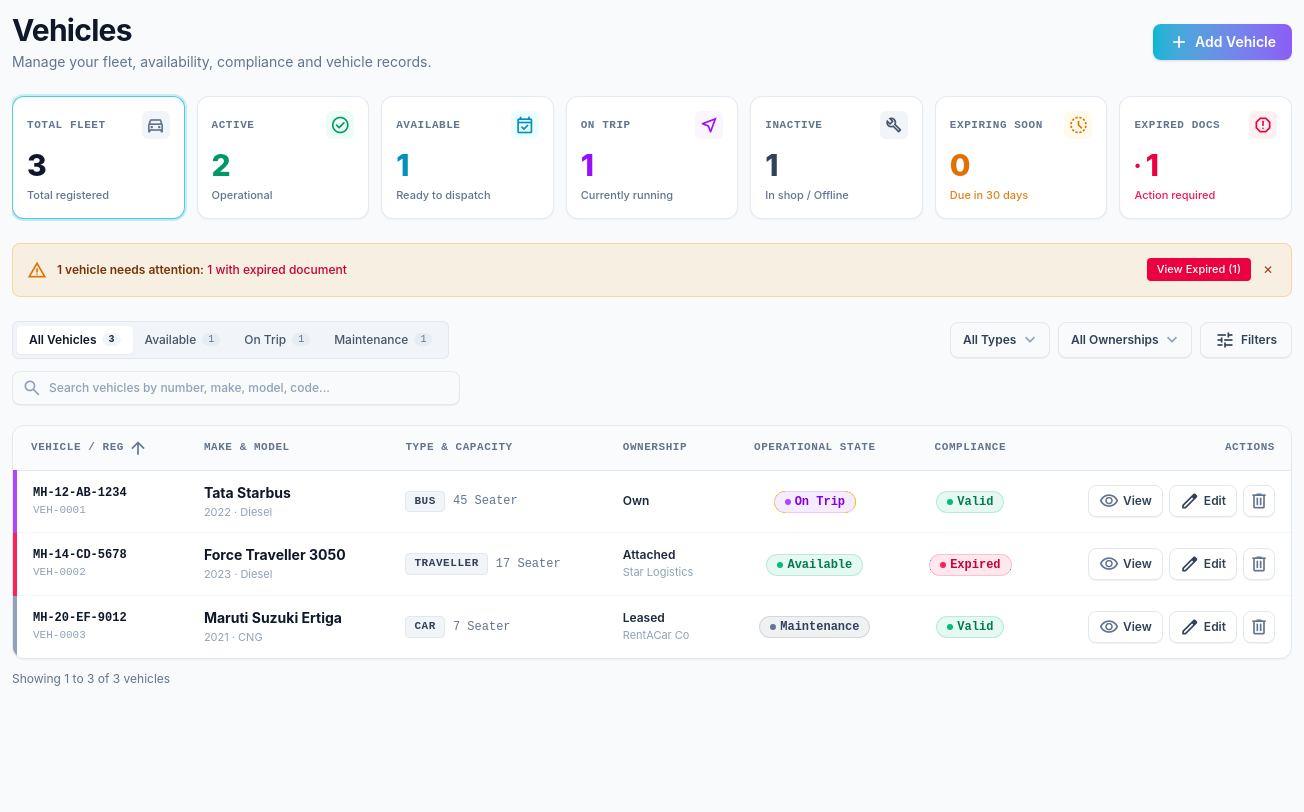
Test: VehicleList Component › renders attention banner when expired documents exist
The width and height of the screenshot is (1304, 812).
Expected: the text "1 vehicle needs attention:" is shown, 57,262 -> 204,276
Expected: the text "1 with expired document" is shown, 207,262 -> 347,276
Click the button "View Expired (1)". click: point(1199, 270)
box: 1147,258 -> 1251,281
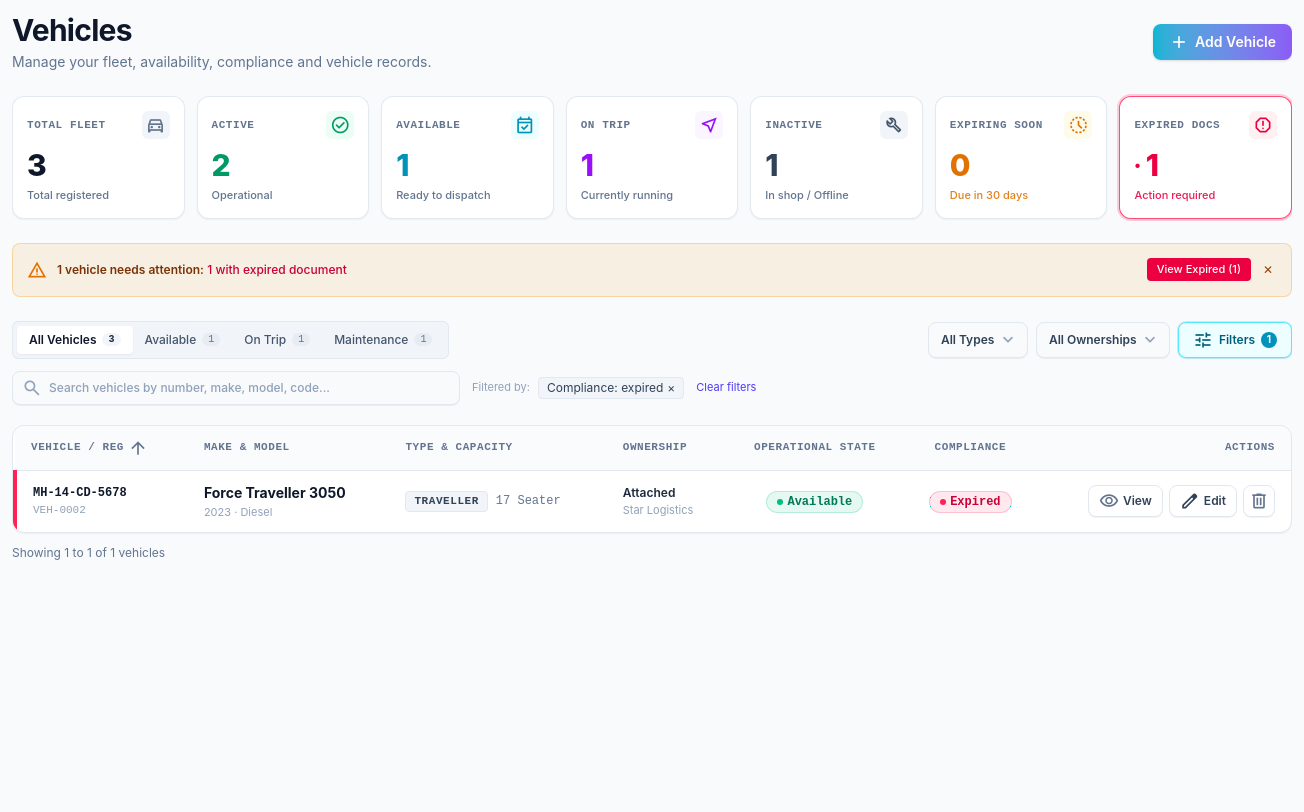
Expected: the text "MH-12-AB-1234" is gone
